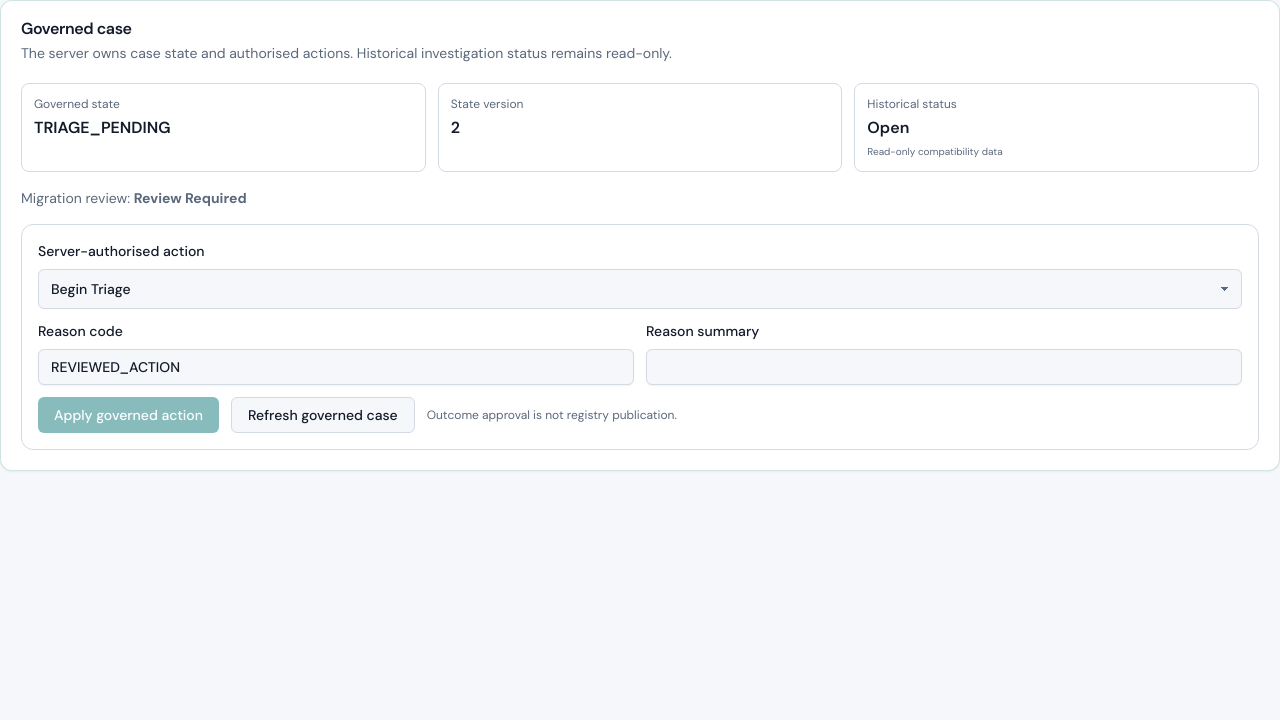
it: governed desktop case panel › refreshes after a stale conflict without replaying the decision
Type "Review stale decision." into the field named "Governed reason summary". click: [944, 367]
box: [646, 349, 1242, 385]
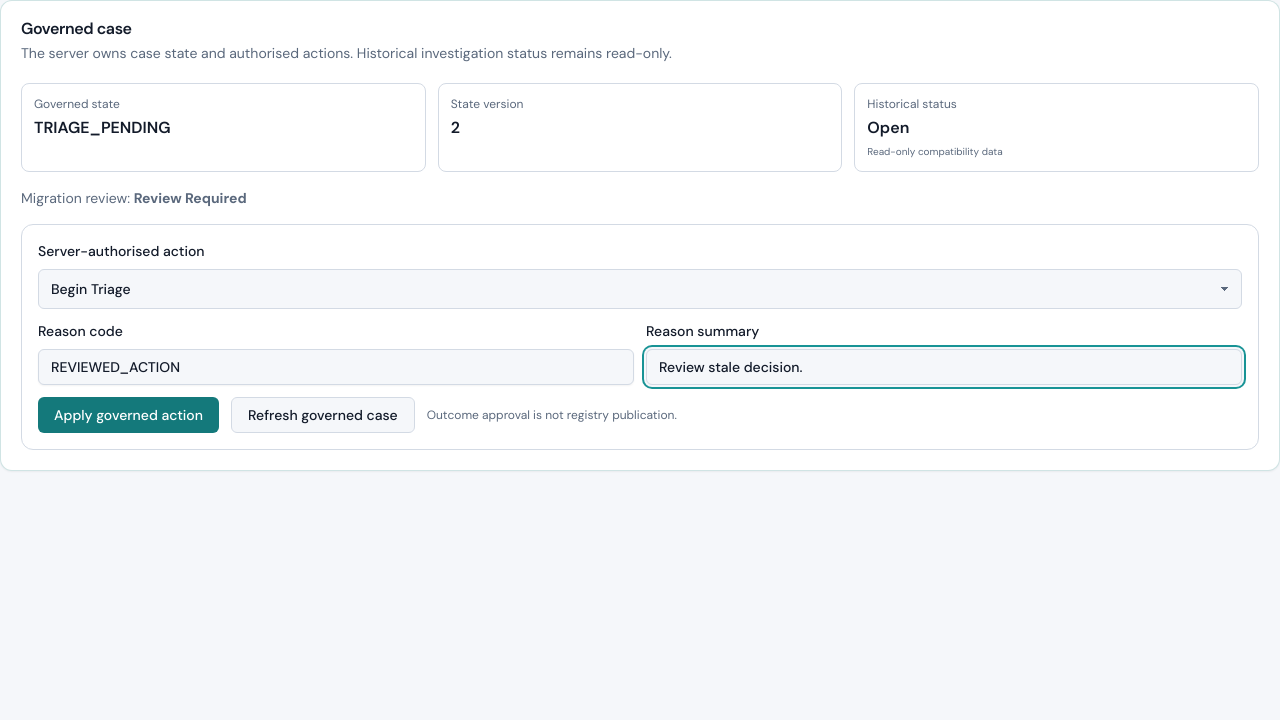
Click the button "Apply governed action". click: [128, 415]
box: [38, 397, 219, 433]
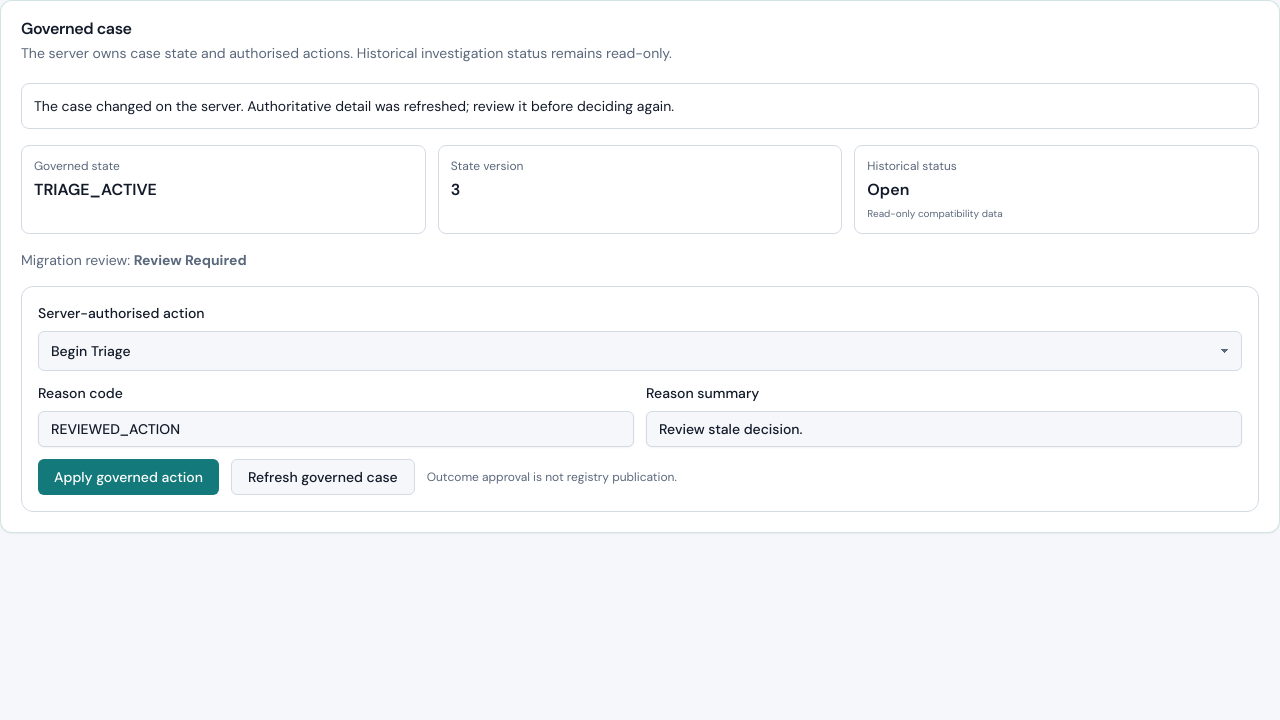
Result: the text "TRIAGE_ACTIVE" is shown at [34, 179, 157, 200]
